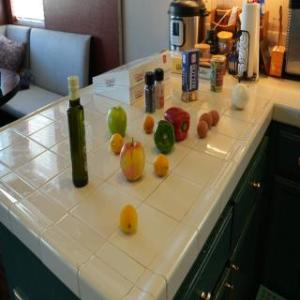bell_pepper: (164, 106, 192, 142), (153, 119, 175, 149)
egg: (200, 112, 214, 132), (196, 122, 208, 138), (210, 110, 220, 125)
onion: (233, 84, 251, 110)
